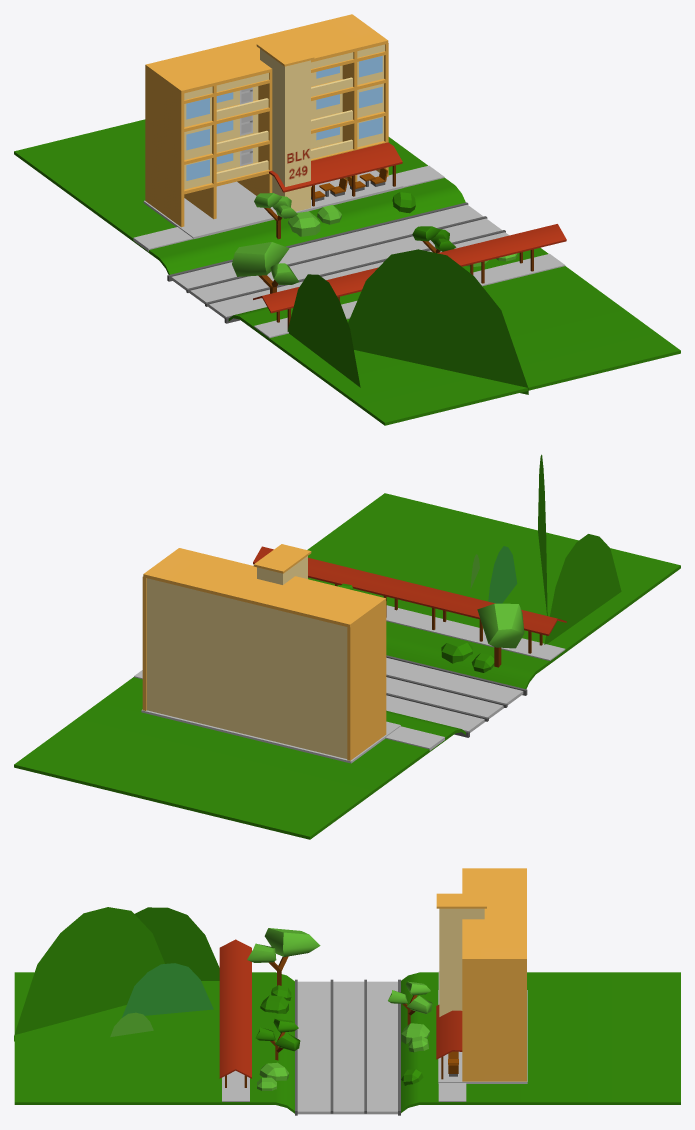
Rendered from Level 3 Chunk 2.fbx.
3 renders of one model, top to bottom at view 1: azimuth 30°, elevation 25°; view 2: azimuth 150°, elevation 25°; view 3: azimuth 270°, elevation 25°, orthographic. The views are drawn at different scales.
Visible parts, largest first — view 1: pCube7035, pCube7039, pasted__pasted__pCube5523, pCube7041, pCube7180, pCube7150, pCube7155, pasted__pCube5625, pCube7156, pCube7146, pCube7580, pCube7161 (+22 smaller); view 2: pCube7039, pCube7313, pCube7035, pCube7180, pCube7041, pCube7150, pasted__pCube5625, pCube7580, pCube7593, pCube8650, pasted__pasted__pCube5522, pCube7146 (+6 smaller); view 3: pCube7039, pCube7035, pCube7041, pasted__pasted__pCube5523, pCube7142, pCube7180, pCube7580, pasted__pCube5625, pasted__pasted__pCube5522, pCube7155, pCube8650, pCube7161 (+12 smaller).
Part boxes in pixels (box(x1,y1,x2,y2)): pCube7035: box(228, 247, 680, 425); pCube7039: box(14, 119, 465, 274); pasted__pasted__pCube5523: box(348, 249, 528, 394); pCube7041: box(171, 204, 509, 318); pCube7180: box(145, 14, 388, 93); pCube7150: box(145, 68, 184, 227); pCube7155: box(260, 49, 310, 211); pasted__pCube5625: box(287, 274, 360, 387); pCube7156: box(184, 55, 383, 189); pCube7146: box(143, 170, 403, 239); pCube7580: box(253, 224, 566, 313); pCube7161: box(269, 142, 402, 192); pCube7039: box(14, 677, 465, 839); pCube7313: box(146, 578, 347, 758); pCube7035: box(307, 493, 680, 688); pCube7180: box(143, 548, 385, 627); pCube7041: box(386, 657, 523, 732); pCube7150: box(347, 601, 386, 760); pasted__pCube5625: box(544, 534, 621, 644); pCube7580: box(253, 546, 566, 635); pCube7593: box(386, 605, 565, 660); pCube8650: box(477, 603, 524, 667); pasted__pasted__pCube5522: box(488, 546, 517, 603); pCube7146: box(141, 709, 400, 763); pCube7039: box(401, 972, 680, 1112); pCube7035: box(14, 972, 294, 1113); pCube7041: box(297, 981, 397, 1114); pasted__pasted__pCube5523: box(14, 907, 164, 1041); pCube7142: box(462, 961, 526, 1081); pCube7180: box(462, 868, 526, 961); pCube7580: box(219, 939, 251, 1078); pasted__pCube5625: box(134, 907, 219, 980); pasted__pasted__pCube5522: box(122, 963, 213, 1017); pCube7155: box(439, 908, 484, 1016); pCube8650: box(247, 928, 320, 985); pCube7161: box(436, 1005, 462, 1059).
Size of the model in its own units: 12.38 by 6.64 by 26.58.
Materials: 1 (1 with a texture image).
